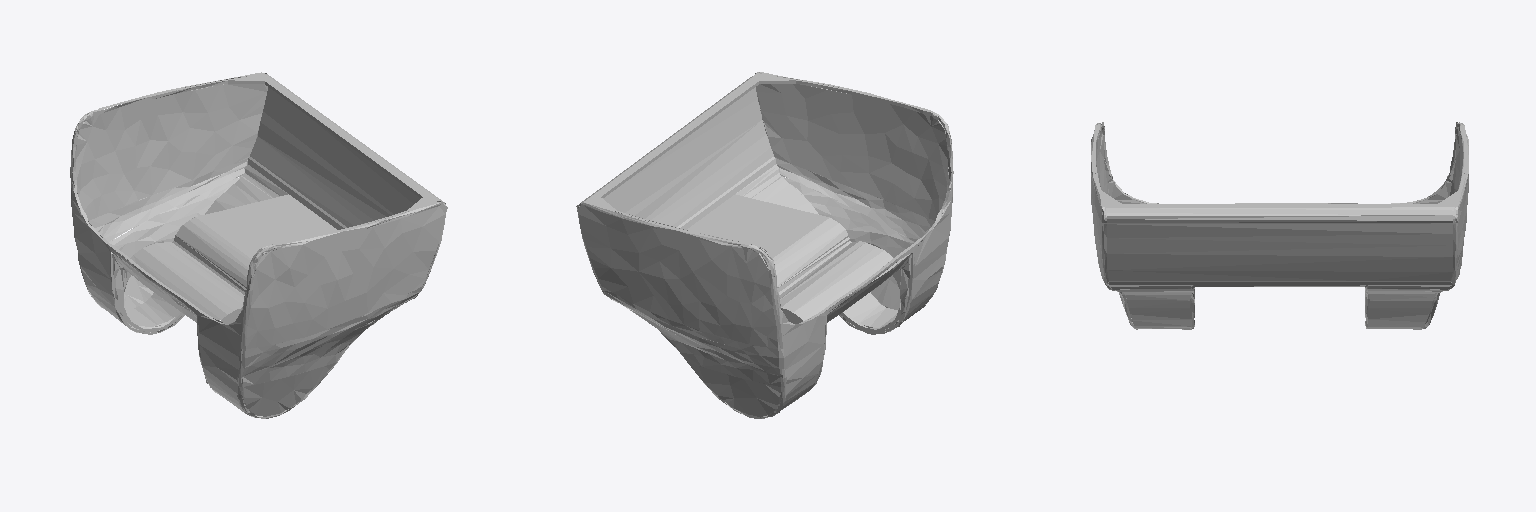
File: head_tilt.obj
The picture shows the model from 3 angles: view 1: azimuth 30°, elevation 25°; view 2: azimuth 150°, elevation 25°; view 3: azimuth 270°, elevation 25°; orthographic projection.
Bounding box in the file's own units: 0.133 × 0.117 × 0.21.